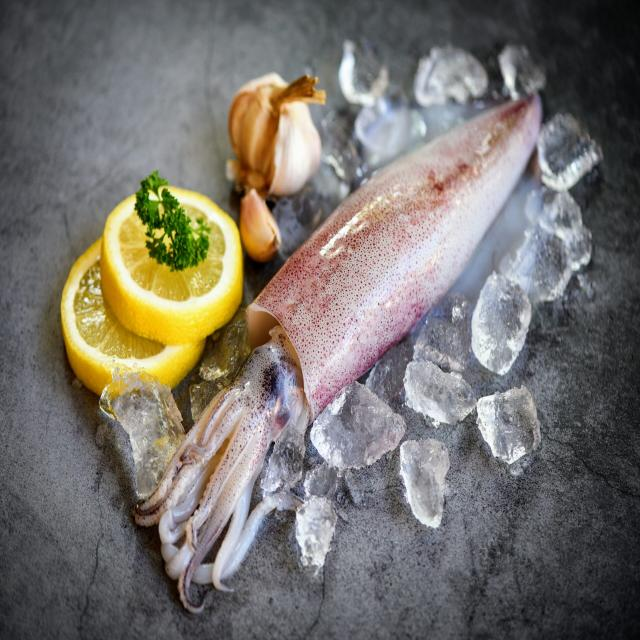SQUID: (194, 75, 586, 475)
